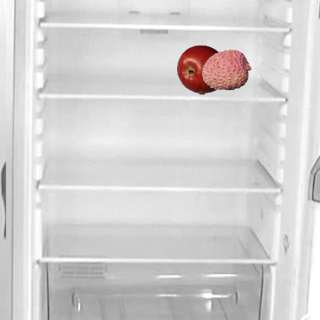Apple Braeburn: (176, 44, 226, 94)
Lychee: (201, 44, 251, 94)
